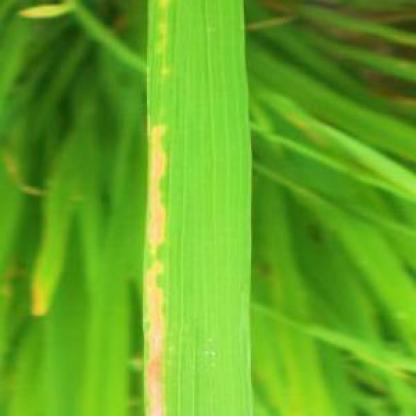Blight: (140, 1, 258, 416)
